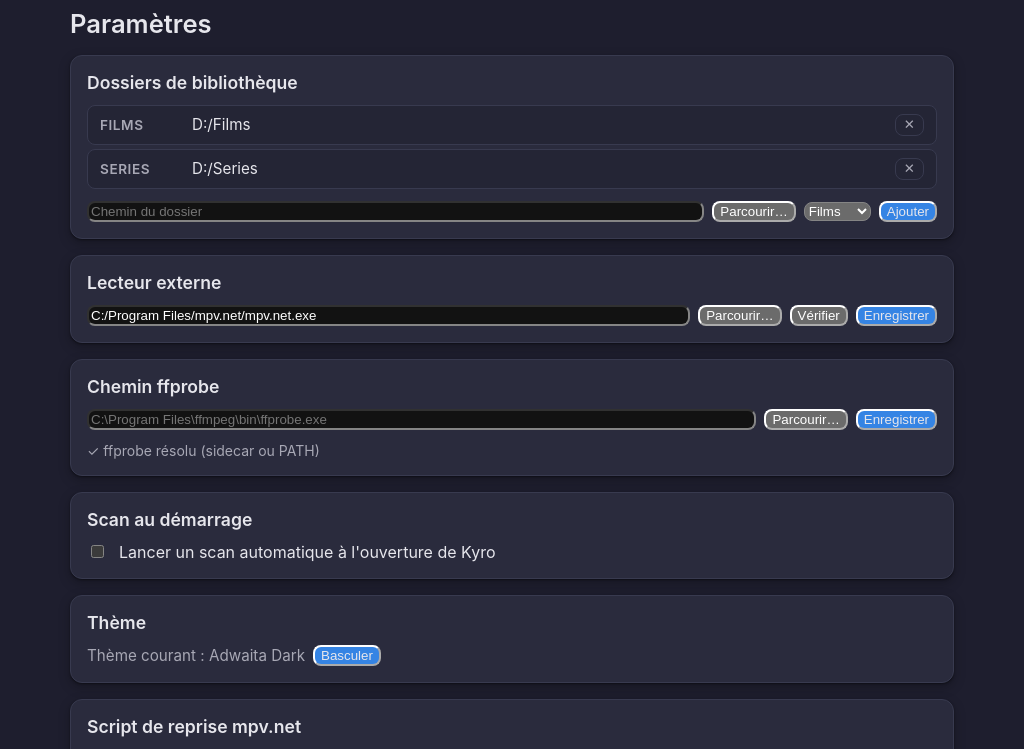
Test case: /settings — section Thème (req. 16.14) › le bouton Basculer appelle toggleTheme via le store
The width and height of the screenshot is (1024, 749).
Expected: the text with test id "theme-current" shows "Adwaita Dark", [209, 646, 305, 665]
Click the button with test id "theme-toggle" at (347, 656), box [313, 645, 381, 666]
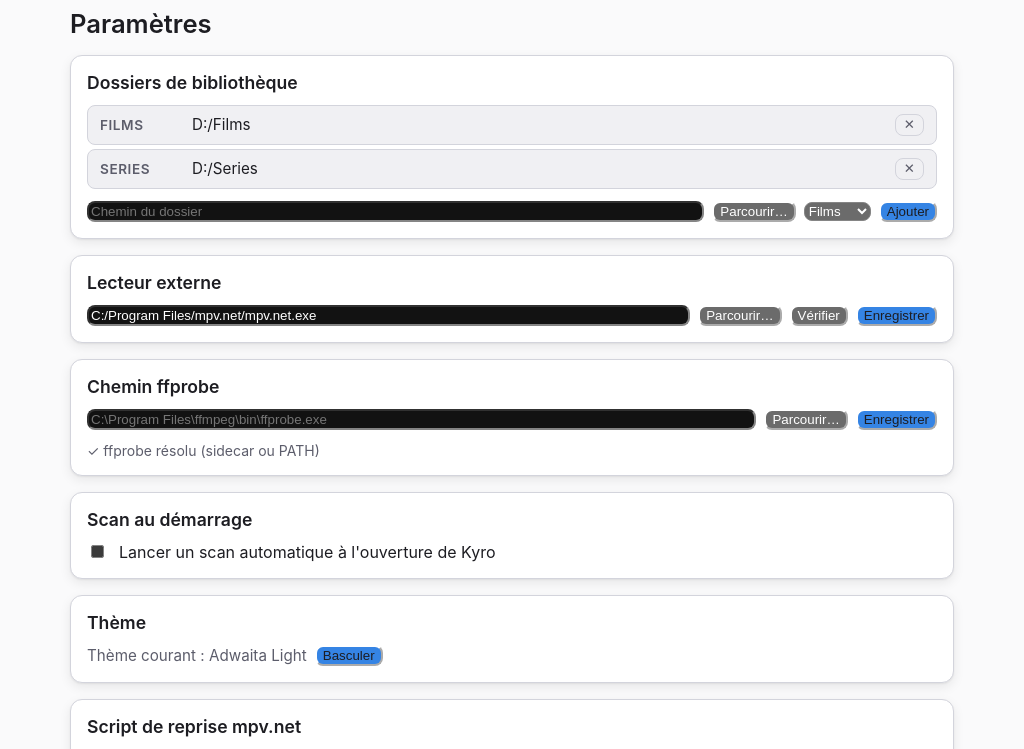
Expected: the text with test id "theme-current" shows "Adwaita Light", [209, 646, 307, 665]
